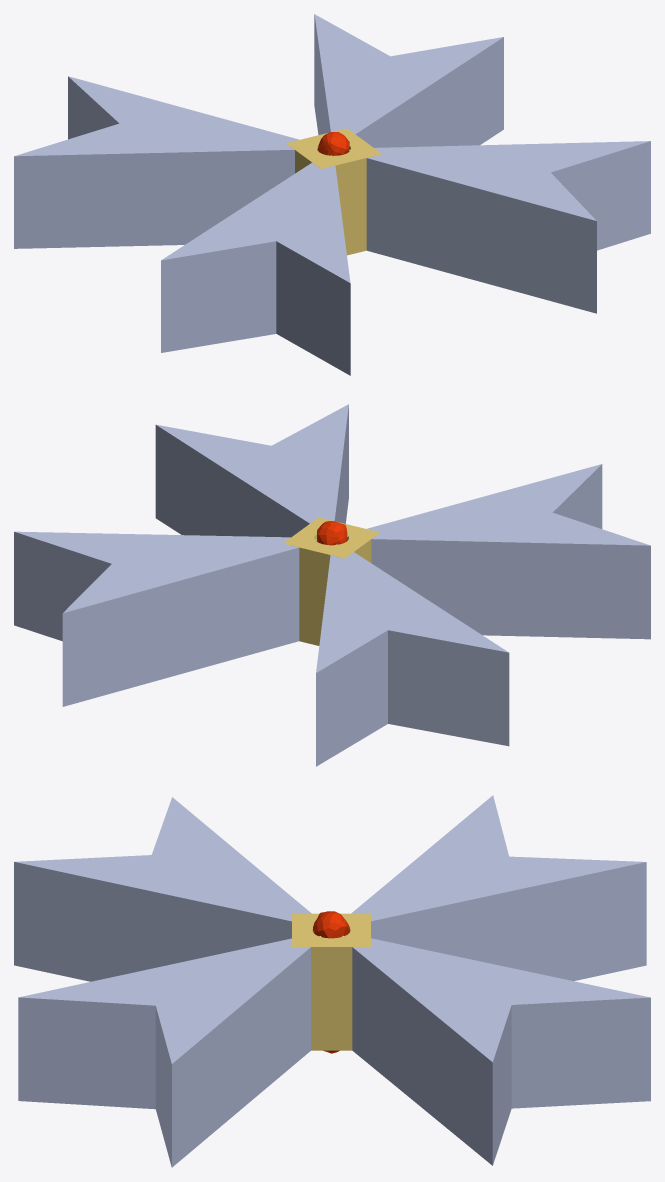
The model's file is Maltese Cross.fbx.
3 views of the same model, one above another, from view 1: azimuth 30°, elevation 25°; view 2: azimuth 150°, elevation 25°; view 3: azimuth 270°, elevation 25° (orthographic). The views are drawn at different scales.
Parts seen in each view (by area): view 1: polySurface2, polySurface1, polySurface3, polySurface4, pCube15, pPlatonic1; view 2: polySurface4, polySurface3, polySurface1, polySurface2, pCube15, pPlatonic1; view 3: polySurface4, polySurface2, polySurface3, polySurface1, pCube15, pPlatonic1.
Boxes of the visible parts, x1,y1,x2,y2 form: polySurface2: [366, 141, 650, 313]; polySurface1: [14, 76, 318, 248]; polySurface3: [161, 162, 350, 375]; polySurface4: [314, 14, 503, 147]; pCube15: [286, 128, 381, 255]; pPlatonic1: [317, 132, 349, 155]; polySurface4: [14, 531, 299, 706]; polySurface3: [348, 464, 650, 639]; polySurface1: [316, 552, 509, 766]; polySurface2: [155, 404, 348, 537]; pCube15: [283, 517, 380, 645]; pPlatonic1: [317, 521, 347, 545]; polySurface4: [352, 938, 650, 1165]; polySurface2: [18, 938, 310, 1167]; polySurface3: [14, 797, 311, 981]; polySurface1: [351, 795, 646, 981]; pCube15: [292, 913, 370, 1050]; pPlatonic1: [313, 911, 349, 1053].
Bounding box in the file's own units: 8.07 × 1.93 × 8.07.
